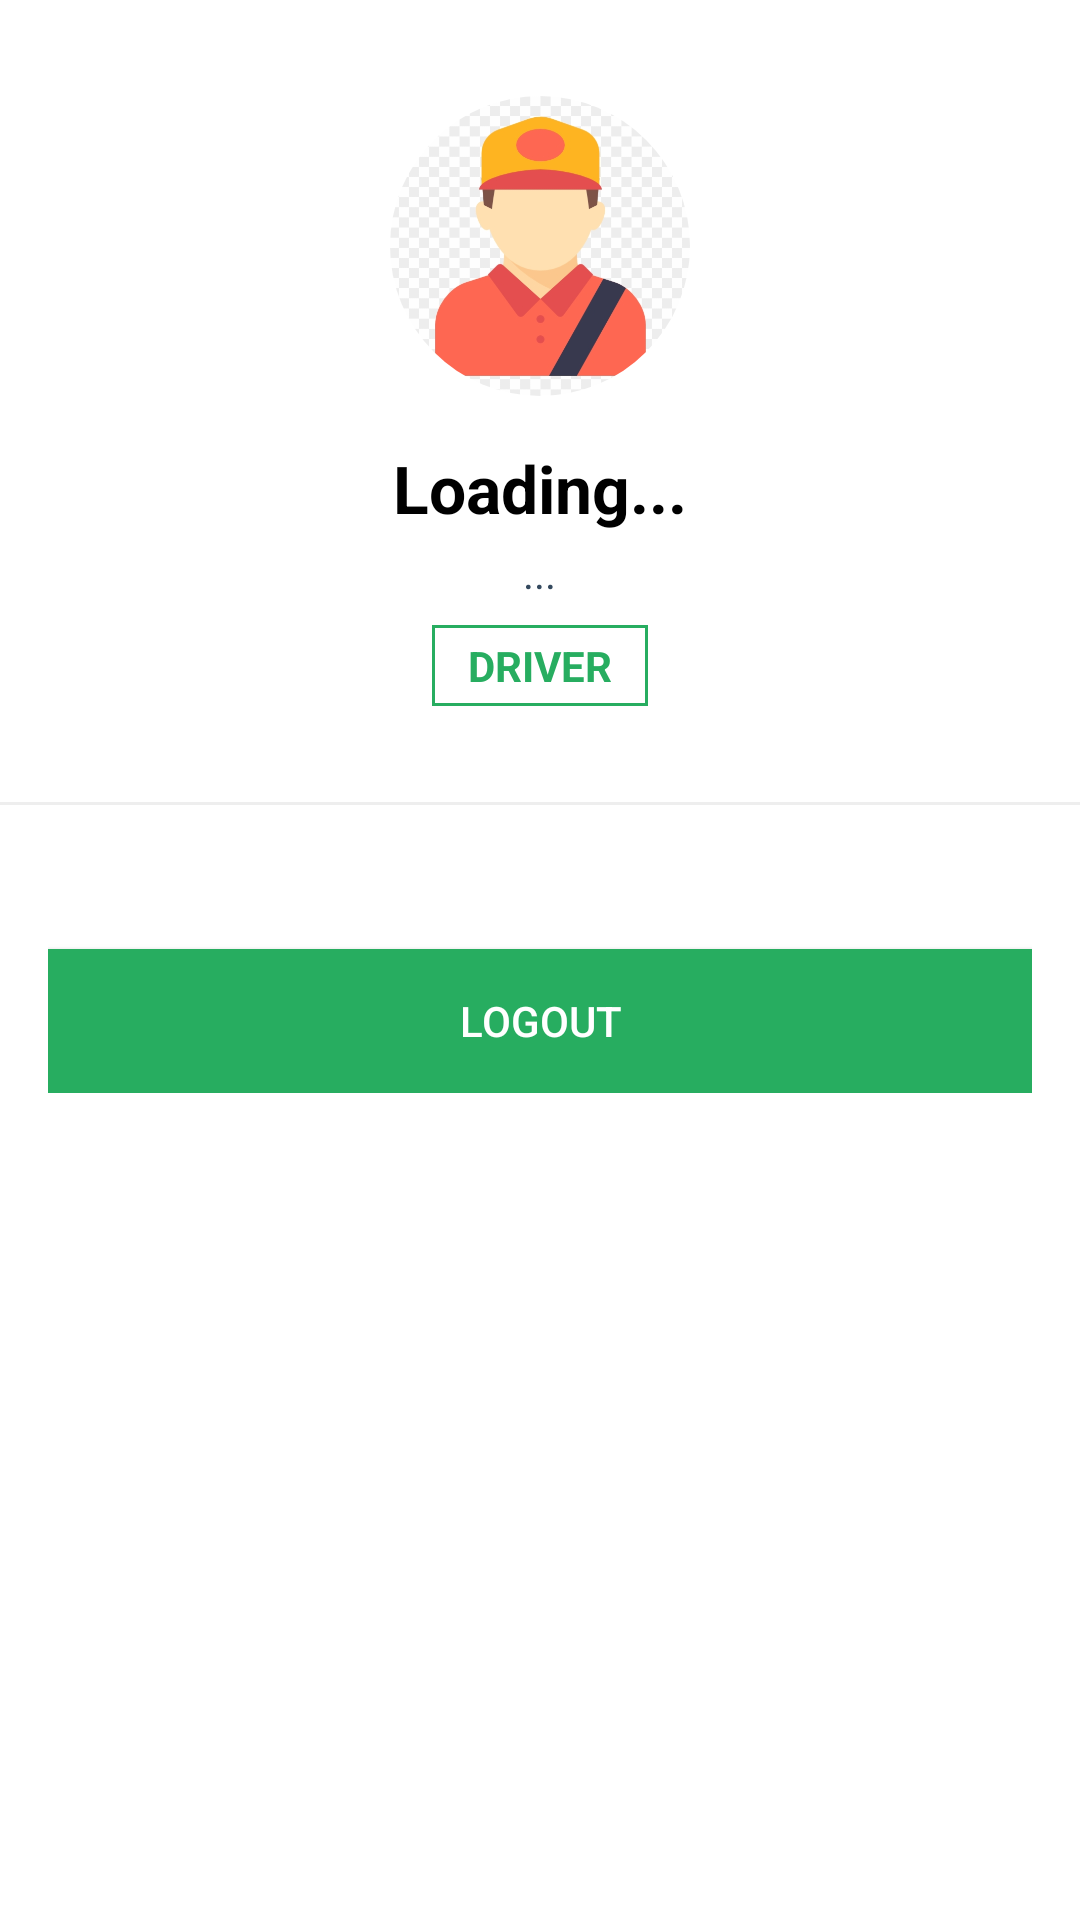

Locate icon controls on the screen. Image size 1080*1920, boxes as (x1, y1, x2, y2).
driver: (435, 116, 646, 377)
